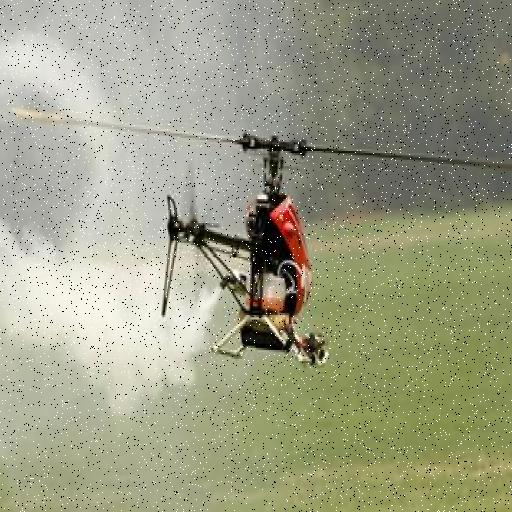helicopter: (11, 111, 512, 369)
